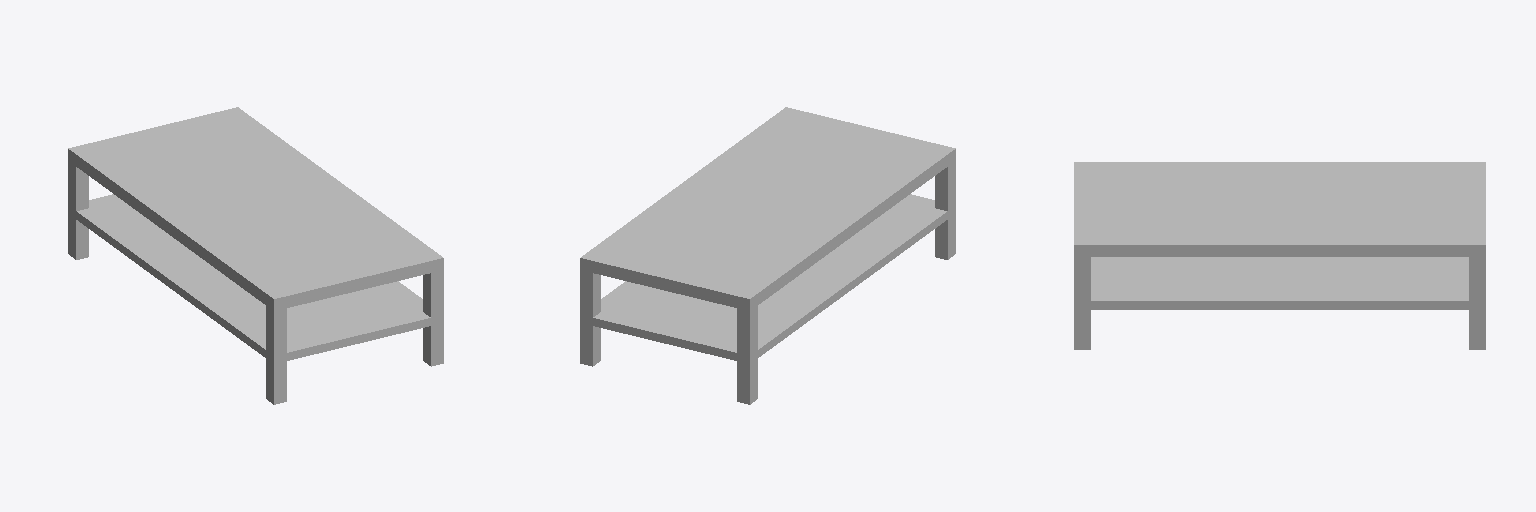
Rendered from StolKaw.obj.
3 renders of one model, left to right at view 1: azimuth 30°, elevation 25°; view 2: azimuth 150°, elevation 25°; view 3: azimuth 270°, elevation 25°, orthographic.
Visible parts, largest first — view 1: Cube.004_Cube.009; view 2: Cube.004_Cube.009; view 3: Cube.004_Cube.009.
Boxes of the visible parts, x1,y1,x2,y2 form: Cube.004_Cube.009: [68, 107, 443, 404]; Cube.004_Cube.009: [580, 107, 955, 404]; Cube.004_Cube.009: [1074, 162, 1485, 349].
Size of the model in its own units: 1.45 by 0.8627 by 3.05.